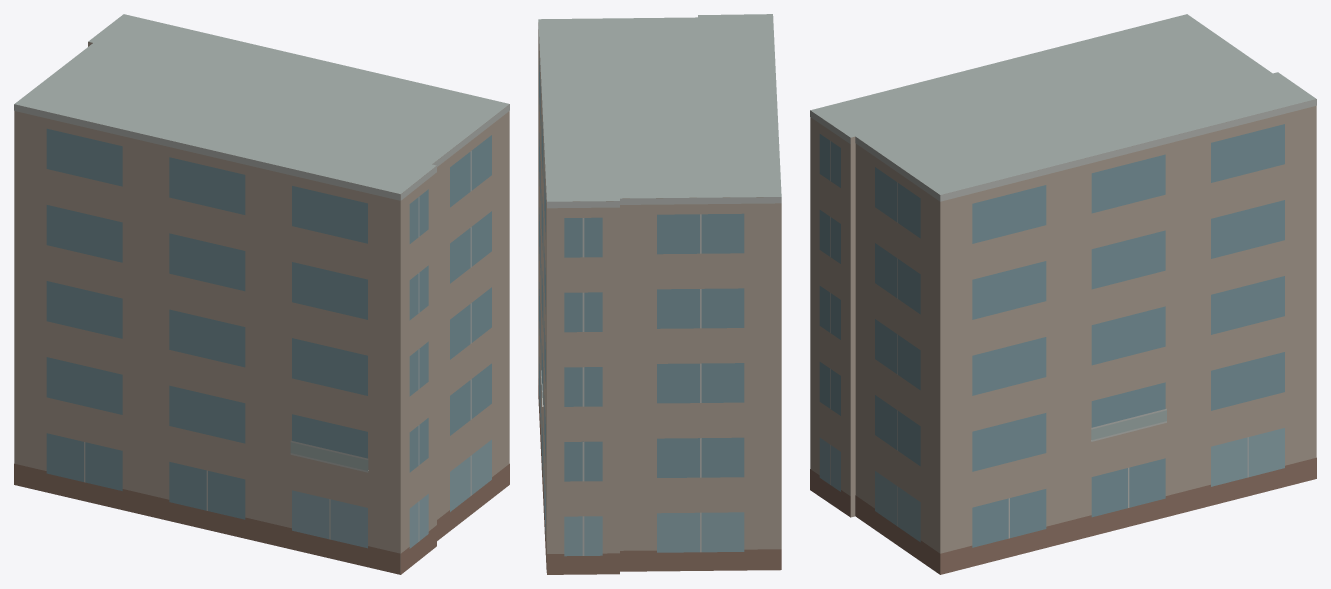
Rendered from survey-upis-32967398.glb.
3 views of the same model, side by side, from view 1: azimuth 30°, elevation 25°; view 2: azimuth 150°, elevation 25°; view 3: azimuth 270°, elevation 25° (orthographic). The views are drawn at different scales.
Visible parts, largest first — view 1: survey-upis-32967398.tmp; view 2: survey-upis-32967398.tmp; view 3: survey-upis-32967398.tmp.
Boxes of the visible parts, box(x1,y1,x2,y2) form: survey-upis-32967398.tmp: box(14, 14, 509, 574); survey-upis-32967398.tmp: box(538, 14, 781, 574); survey-upis-32967398.tmp: box(810, 14, 1316, 574).
Bounding box in the file's own units: 14.22 × 13.9 × 16.81.
